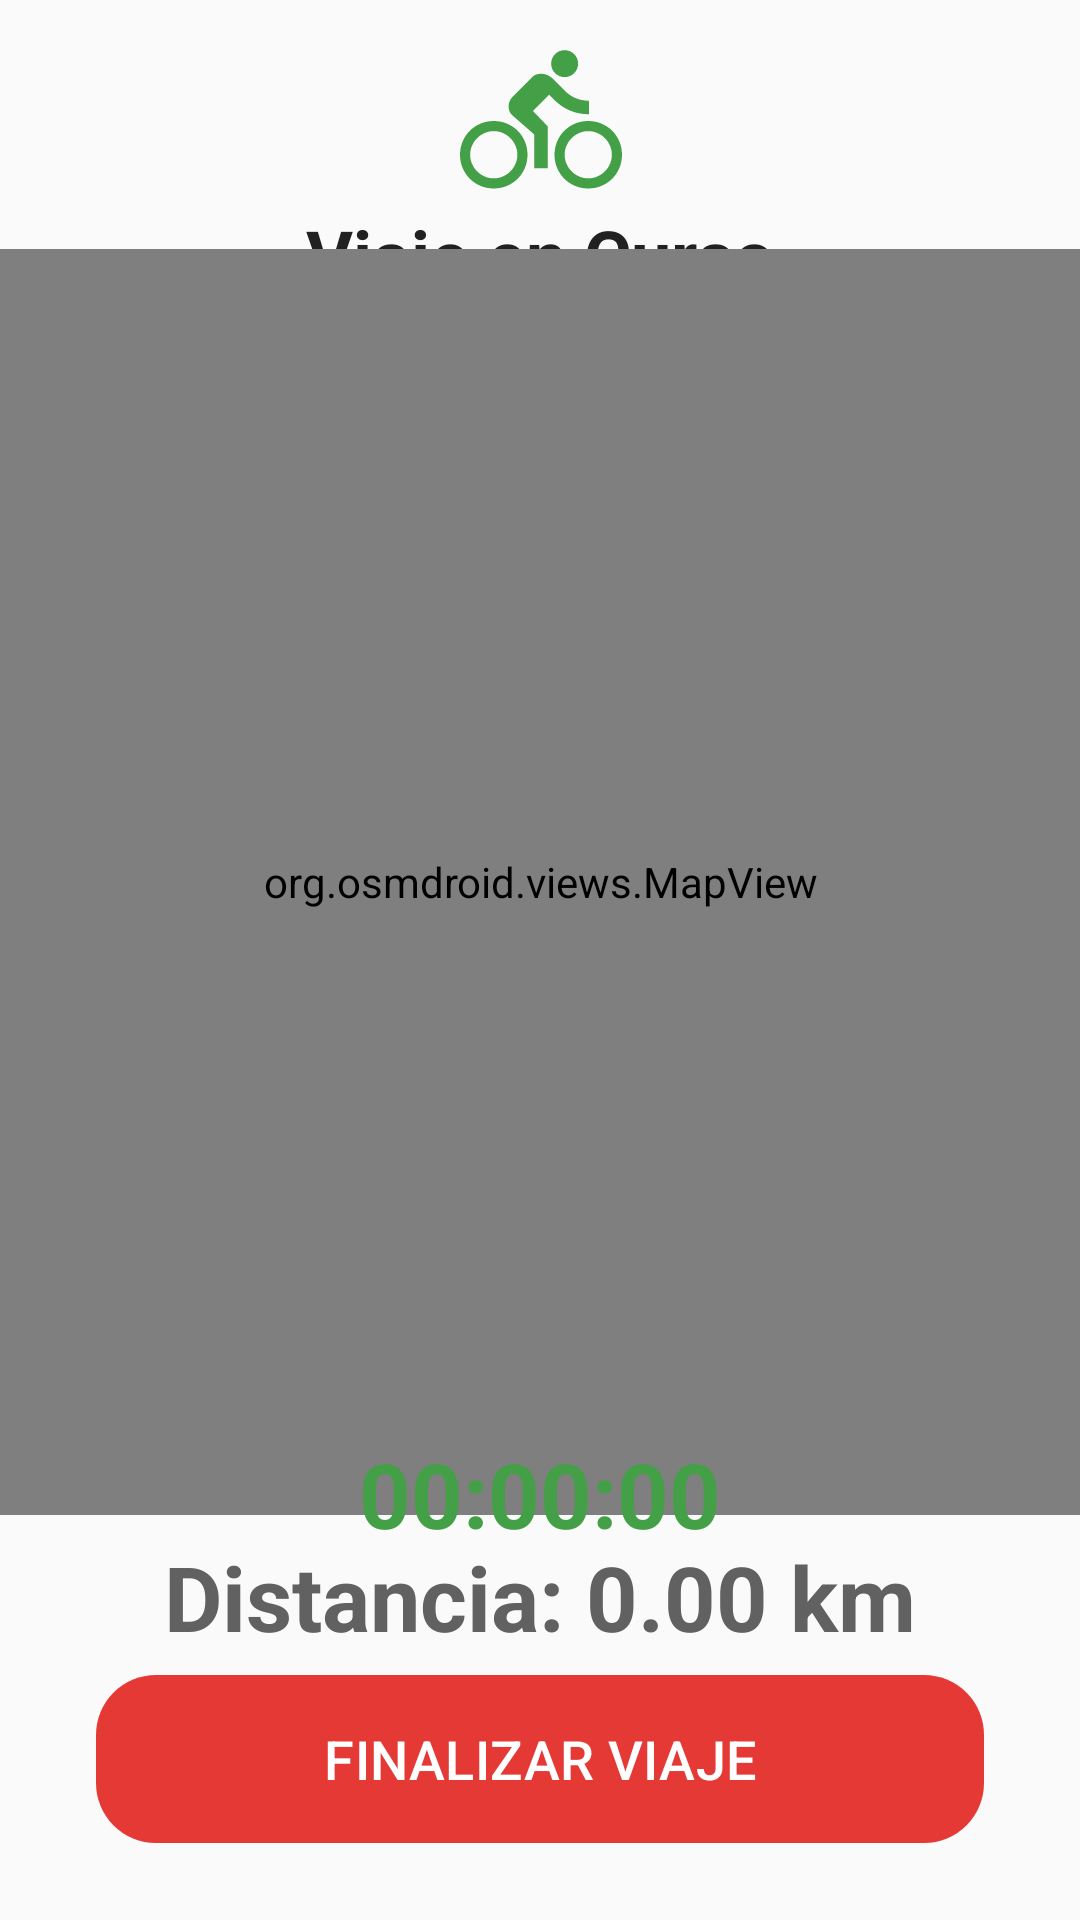

Where to tap for icons on this 1080 × 1920 app screen, as (x=x, y=y):
Ícono representativo de una bicicleta: (x=541, y=119)
